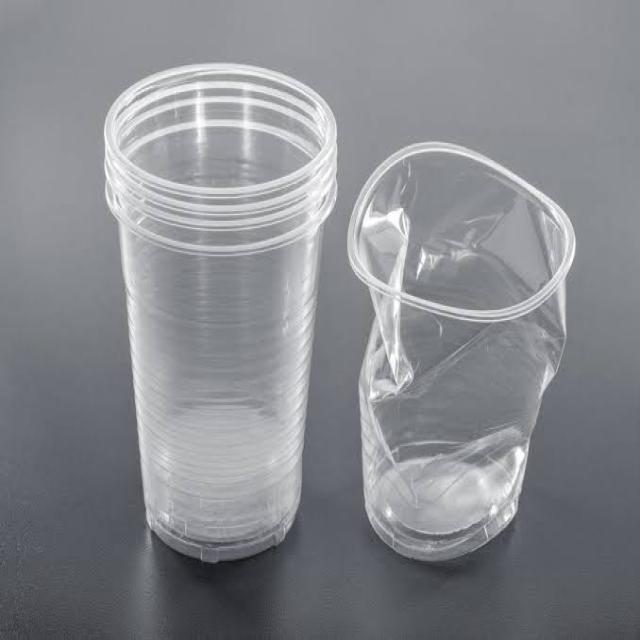plastic: (90, 46, 344, 569), (341, 128, 581, 580)
